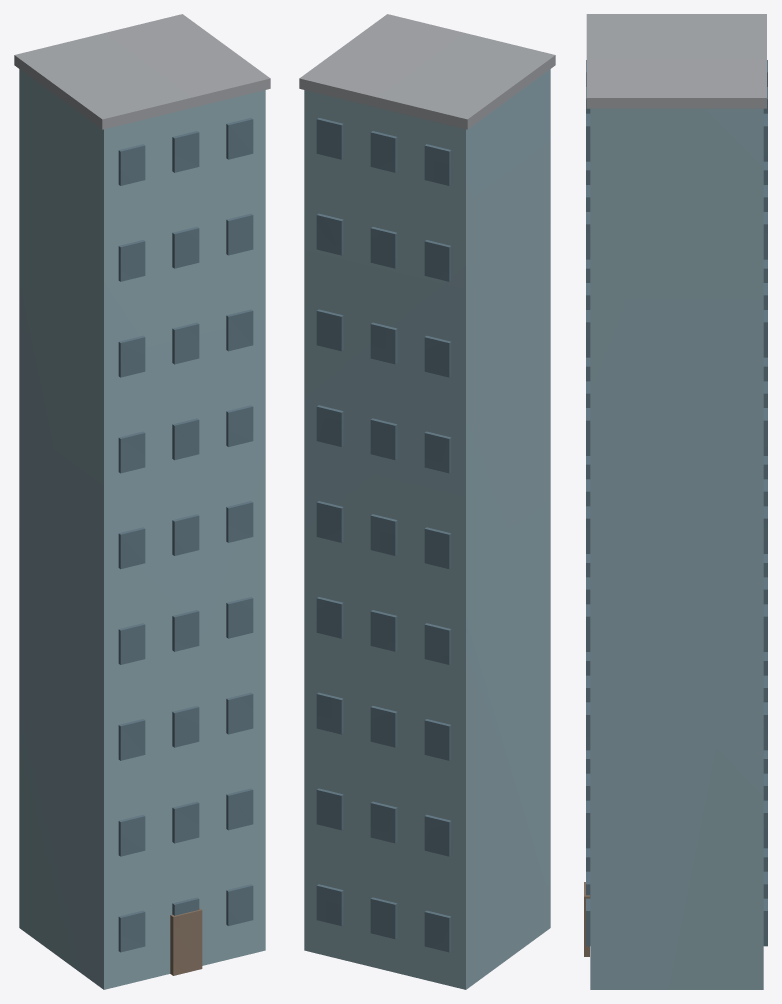
The model's file is tower-01.glb.
3 renders of one model, left to right at view 1: azimuth 30°, elevation 25°; view 2: azimuth 150°, elevation 25°; view 3: azimuth 270°, elevation 25°, orthographic. The views are drawn at different scales.
Parts seen in each view (by area): view 1: world; view 2: world; view 3: world.
Boxes of the visible parts, bbox=[...] form: world: bbox=[14, 14, 270, 989]; world: bbox=[299, 14, 555, 989]; world: bbox=[584, 14, 767, 989].
Size of the model in its own units: 1.19 by 5.92 by 1.1.
